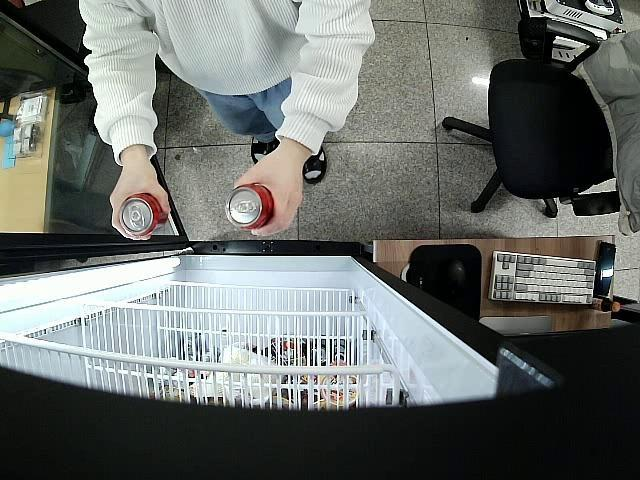11_cocaColaZero: (225, 182, 274, 229), (119, 192, 168, 237)
